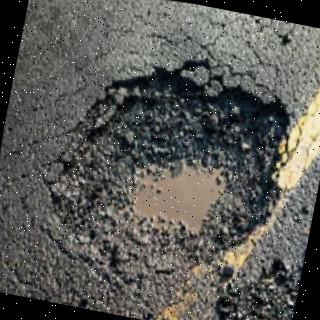pothole: (49, 67, 288, 257)
